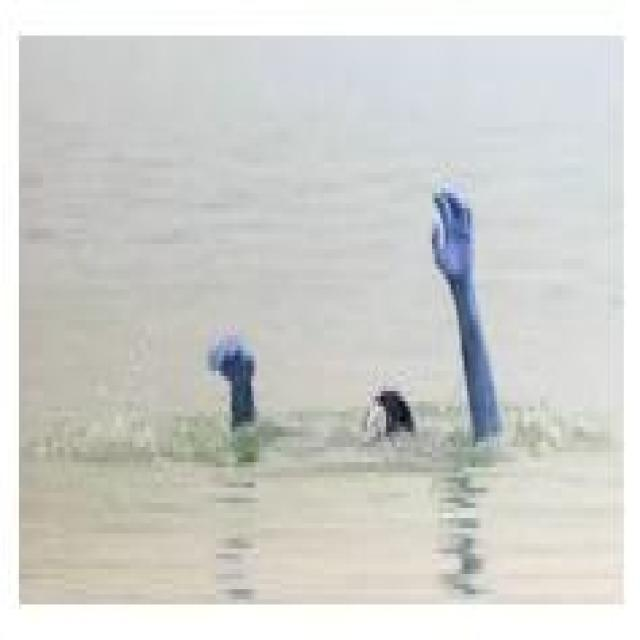Out of Water: (202, 183, 510, 462)
